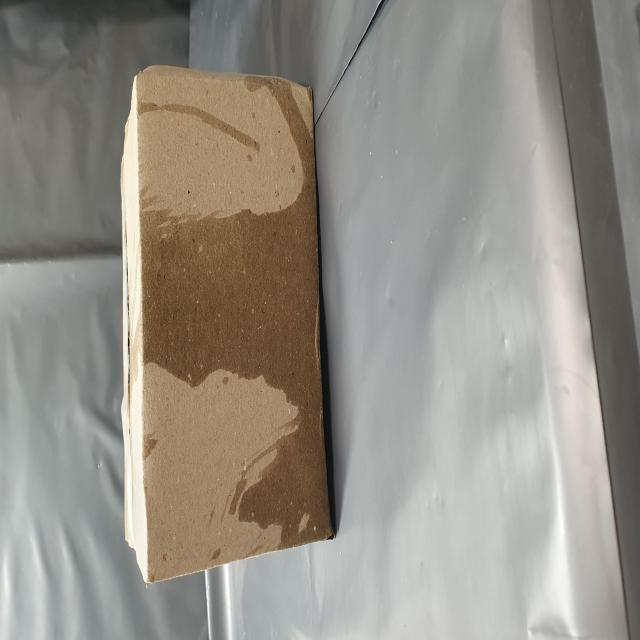wet: (55, 238, 308, 598)
